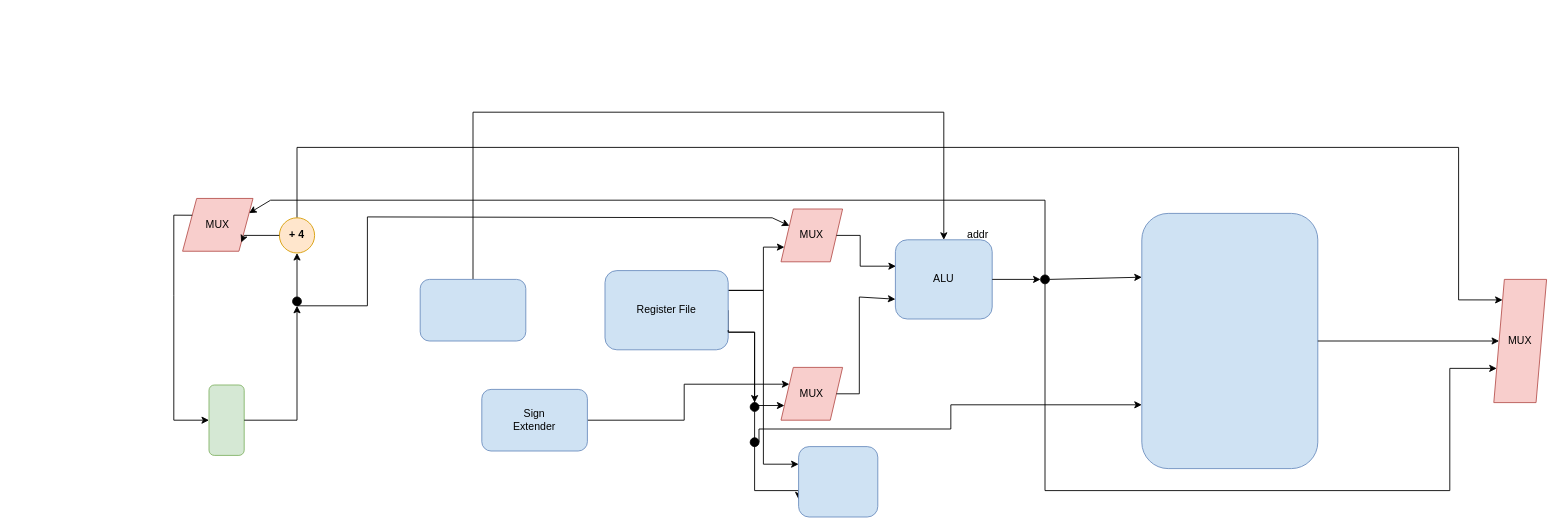
Some shapes in this 1562 by 532 pixel diagram are drawn without their labels. Each missing label, with the centre of its shape:
Branch Unit: (838,481)
Decoder: (472,310)
Memory: (1229,341)
PC: (226,419)
